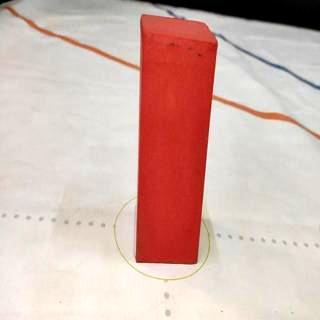redbox: (136, 13, 218, 266)
